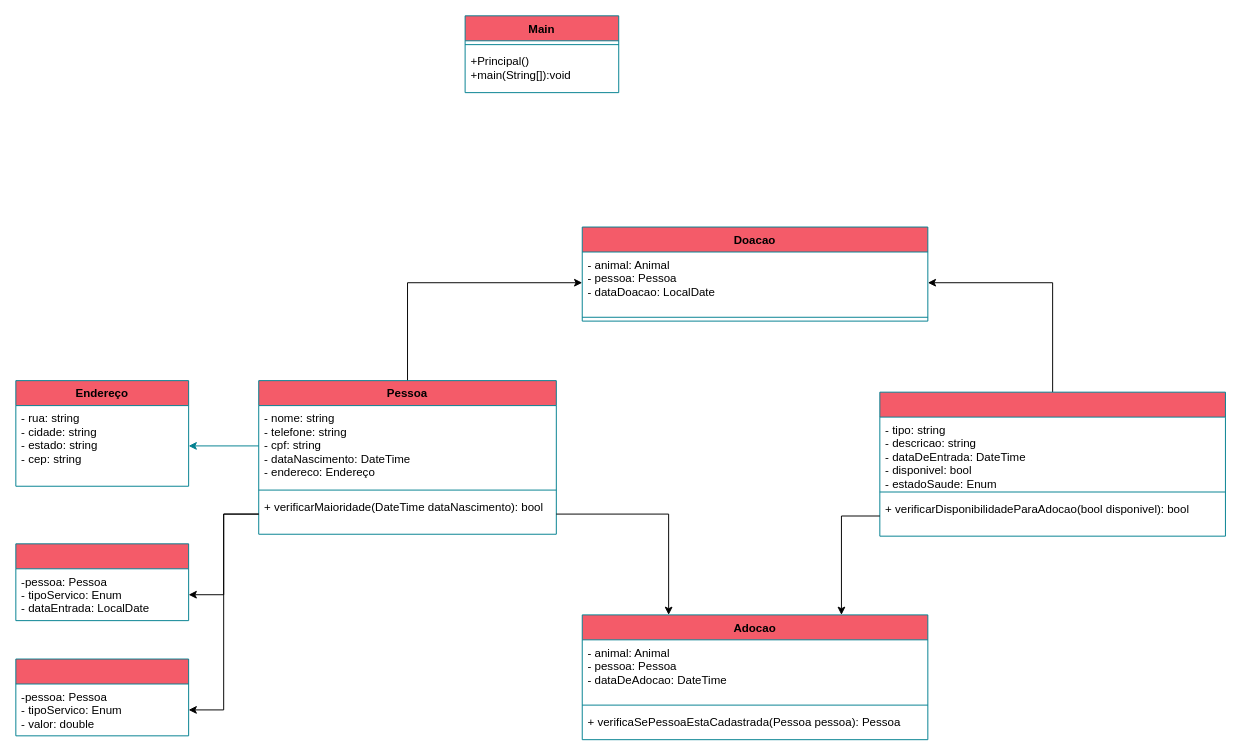
This 1241x756 diagram has some shape labels left out. The shapes that lost their labels are listed below. From the top down, each one's box as (x1, y1, x2, y2) in pixels, then its label:
(879, 391, 1225, 536): Animal
(15, 543, 189, 621): Voluntario
(15, 658, 189, 736): Ajudante
